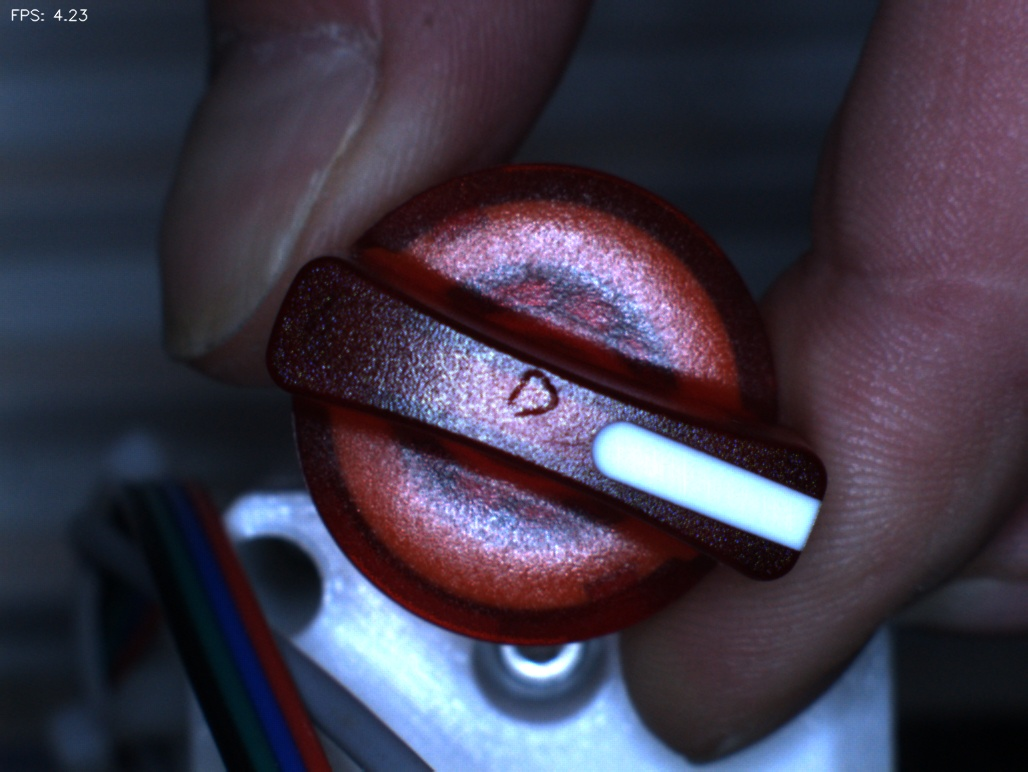Choc: (484, 338, 579, 433)
